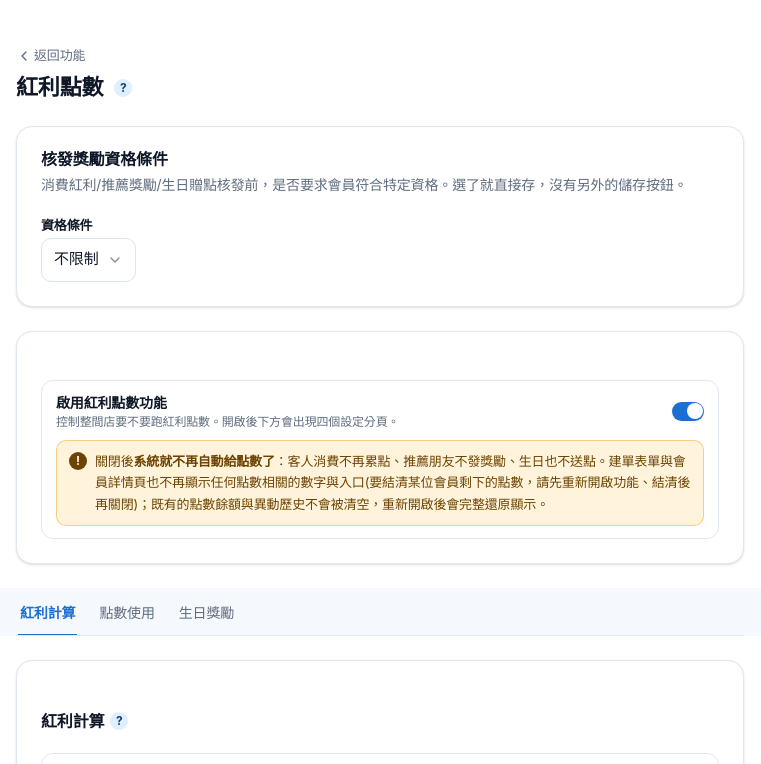
Scenario: §4.5 生日獎勵 › 字數計數 + 變數三欄說明 + 會員實際會收到;商家文案當純文字(不吃 HTML)
Click the tab "生日獎勵" at (206, 614), box [177,592,236,636]
(page scrolled)
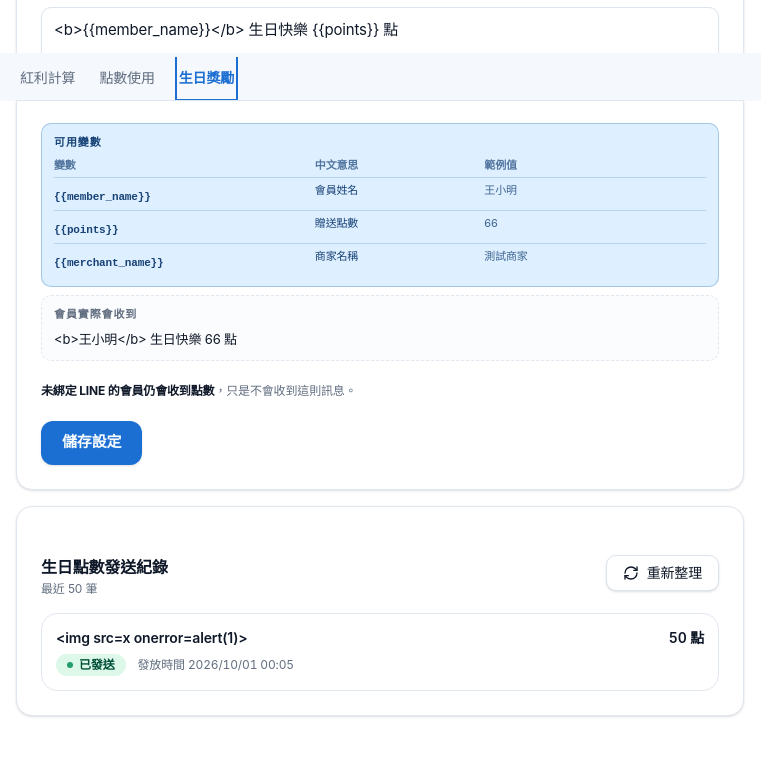
Now the text "會員實際會收到" is shown, box [54,307,137,321]
Now the text "{{merchant_name}}" is shown, box [54,257,164,269]
Now the text "<b>王小明</b> 生日快樂 66 點" is shown, box [54,331,237,347]
